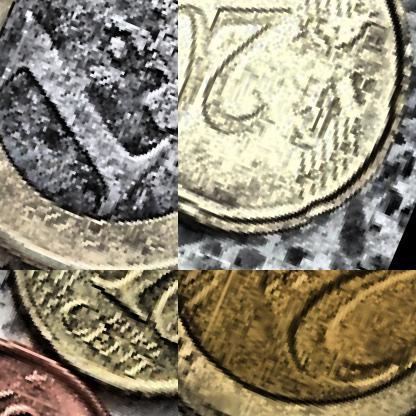coin: (178, 0, 415, 269), (0, 0, 177, 269), (178, 270, 415, 415), (0, 270, 177, 415)
